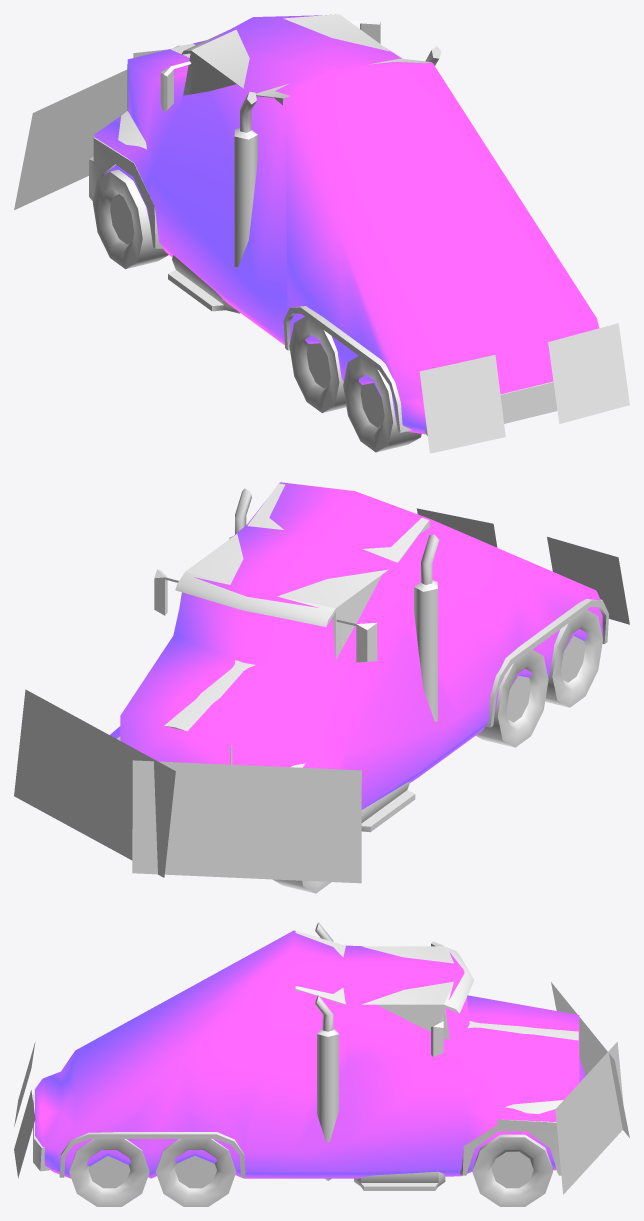
The model's file is BlackTruck.fbx.
3 views of the same model, one above another, from view 1: azimuth 30°, elevation 25°; view 2: azimuth 150°, elevation 25°; view 3: azimuth 270°, elevation 25° (orthographic). The views are drawn at different scales.
Parts seen in each view (by area): view 1: BlackTruckProxy, BlackTruck, BlackTruckRearLights, BlackTruckFrontLights, BlackTruckWheel_LF, BlackTruckWheel_LB, BlackTruckWheel_LB2; view 2: BlackTruckProxy, BlackTruckFrontLights, BlackTruck, BlackTruckRearLights, BlackTruckWheel_LB2, BlackTruckWheel_LB, BlackTruckGlass; view 3: BlackTruckProxy, BlackTruck, BlackTruckFrontLights, BlackTruckWheel_RF, BlackTruckWheel_RB2, BlackTruckWheel_RB, BlackTruckRearLights, BlackTruckGlass.
Part boxes in pixels (x1,y1,x2,y2): BlackTruckProxy: (94, 15, 599, 434); BlackTruck: (89, 14, 600, 435); BlackTruckRearLights: (419, 323, 629, 453); BlackTruckFrontLights: (14, 45, 179, 210); BlackTruckWheel_LF: (92, 169, 168, 269); BlackTruckWheel_LB: (343, 356, 421, 452); BlackTruckWheel_LB2: (289, 316, 346, 413); BlackTruckProxy: (110, 482, 602, 809); BlackTruckFrontLights: (14, 689, 361, 883); BlackTruck: (117, 483, 608, 832); BlackTruckRearLights: (416, 508, 629, 624); BlackTruckWheel_LB2: (476, 649, 548, 747); BlackTruckWheel_LB: (545, 610, 602, 707); BlackTruckGlass: (179, 591, 373, 659); BlackTruckProxy: (35, 930, 585, 1178); BlackTruck: (33, 922, 578, 1190); BlackTruckFrontLights: (551, 982, 629, 1194); BlackTruckWheel_RF: (472, 1134, 552, 1206); BlackTruckWheel_RB2: (155, 1139, 236, 1206); BlackTruckWheel_RB: (69, 1139, 149, 1206); BlackTruckRearLights: (14, 1042, 35, 1178); BlackTruckGlass: (393, 1007, 448, 1033).
Size of the model in its own units: 4.7 by 9.03 by 3.46.
